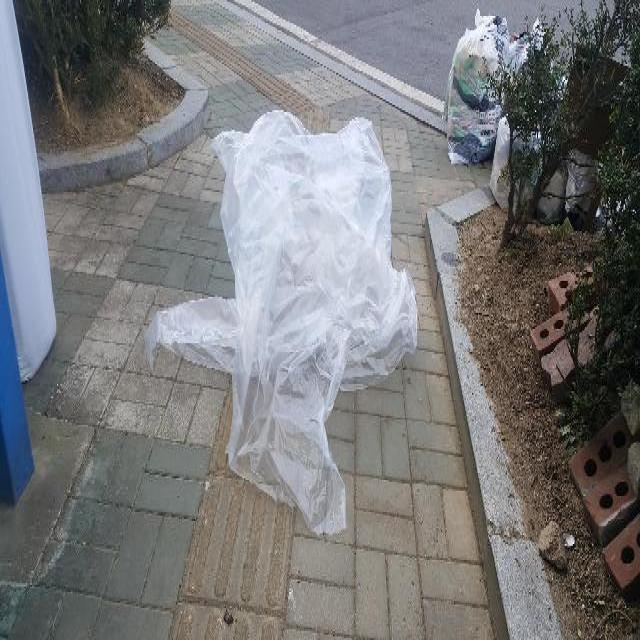plastic bag: (140, 105, 424, 541)
